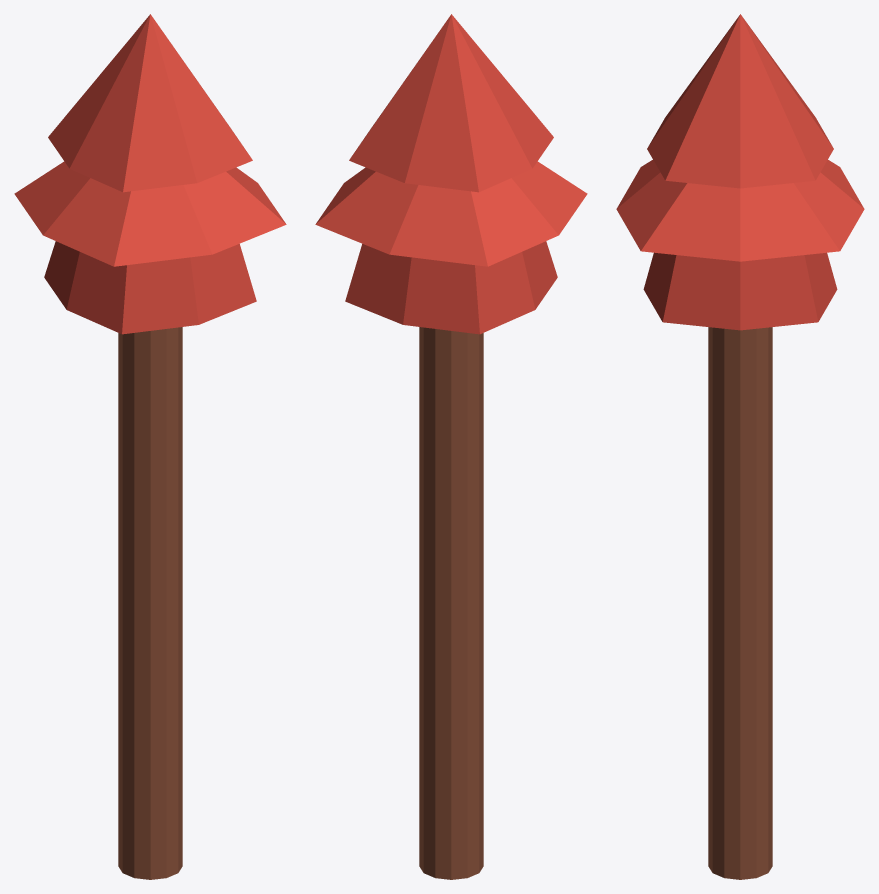
File: Tree_20_summer_red_pal.fbx
3 views of the same model, side by side, from view 1: azimuth 30°, elevation 25°; view 2: azimuth 150°, elevation 25°; view 3: azimuth 270°, elevation 25° (orthographic).
Parts seen in each view (by area): view 1: Tree_20_summer_red_pal; view 2: Tree_20_summer_red_pal; view 3: Tree_20_summer_red_pal.
Boxes of the visible parts, <box> form: Tree_20_summer_red_pal: <box>14,14,286,879</box>; Tree_20_summer_red_pal: <box>315,14,587,879</box>; Tree_20_summer_red_pal: <box>616,14,864,879</box>.
Bounding box in the file's own units: 85.54 × 324 × 85.54.
